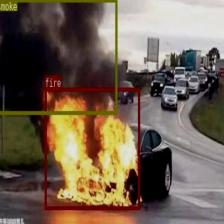fire: (44, 87, 140, 209)
smoke: (0, 0, 117, 114)
